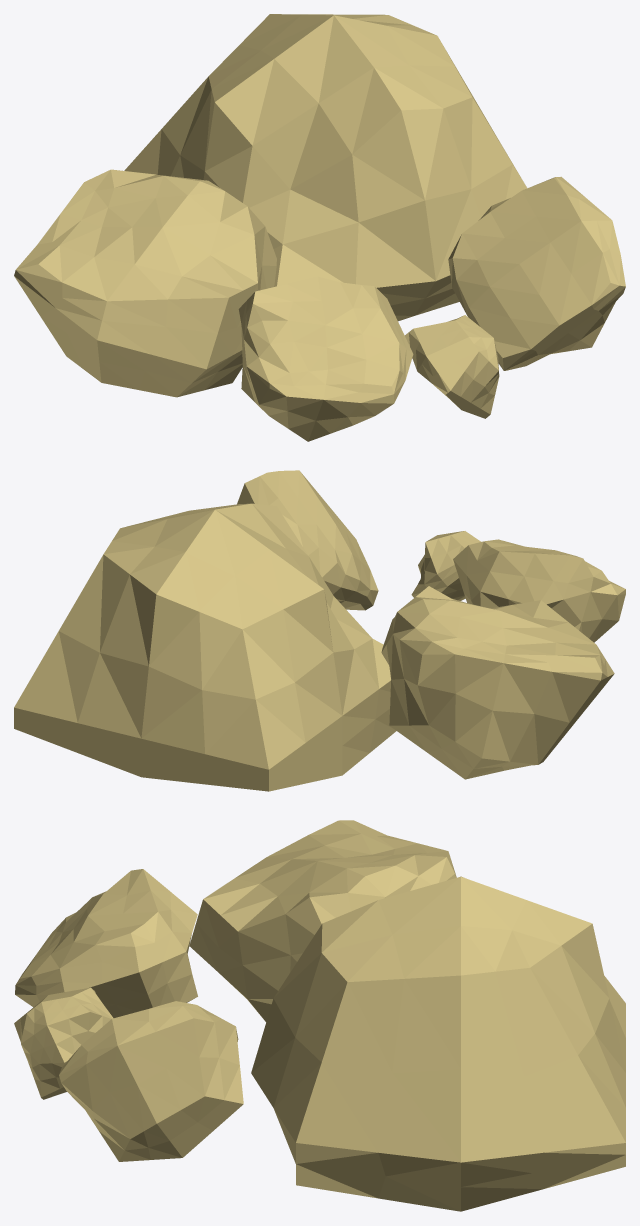
The model's file is rocks improved export.fbx.
3 renders of one model, top to bottom at view 1: azimuth 30°, elevation 25°; view 2: azimuth 150°, elevation 25°; view 3: azimuth 270°, elevation 25°, orthographic. The views are drawn at different scales.
Visible parts, largest first — view 1: pCube6; view 2: pCube6; view 3: pCube6.
Part boxes in pixels (<box>): pCube6: <box>14,14,625,441</box>; pCube6: <box>14,470,625,791</box>; pCube6: <box>14,820,625,1211</box>.
Bounding box in the file's own units: 3.82 × 1.75 × 3.59.
